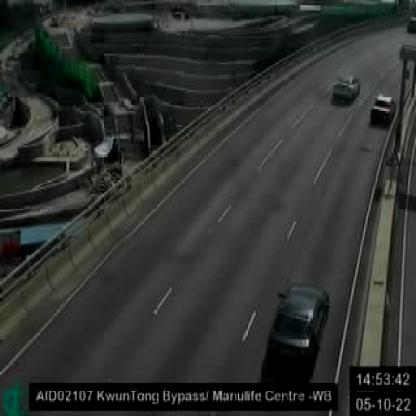Car: (266, 281, 329, 369), (333, 74, 361, 100), (371, 94, 395, 123)
